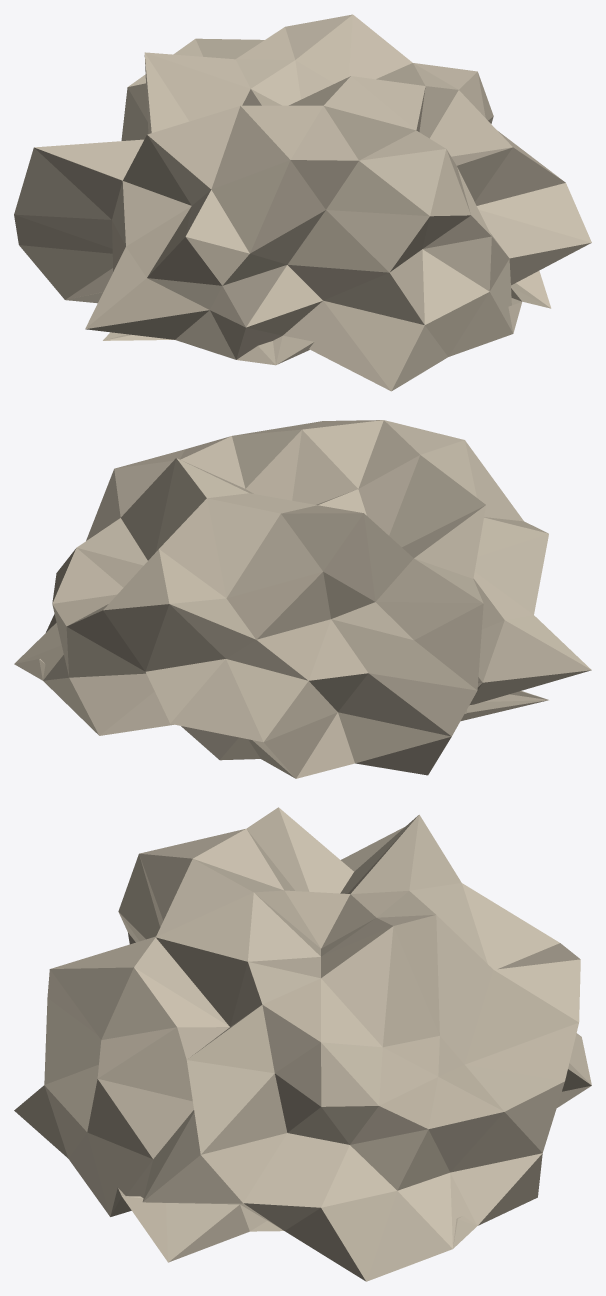
File: boulder_large.fbx
The picture shows the model from 3 angles, top to bottom: view 1: azimuth 30°, elevation 25°; view 2: azimuth 150°, elevation 25°; view 3: azimuth 270°, elevation 25°; orthographic projection. The views are drawn at different scales.
Parts seen in each view (by area): view 1: Boulder_Large; view 2: Boulder_Large; view 3: Boulder_Large.
Boxes of the visible parts, x1,y1,x2,y2 form: Boulder_Large: [14, 14, 591, 391]; Boulder_Large: [14, 420, 591, 778]; Boulder_Large: [14, 807, 591, 1281].
Size of the model in its own units: 7.28 by 3.75 by 6.52.
